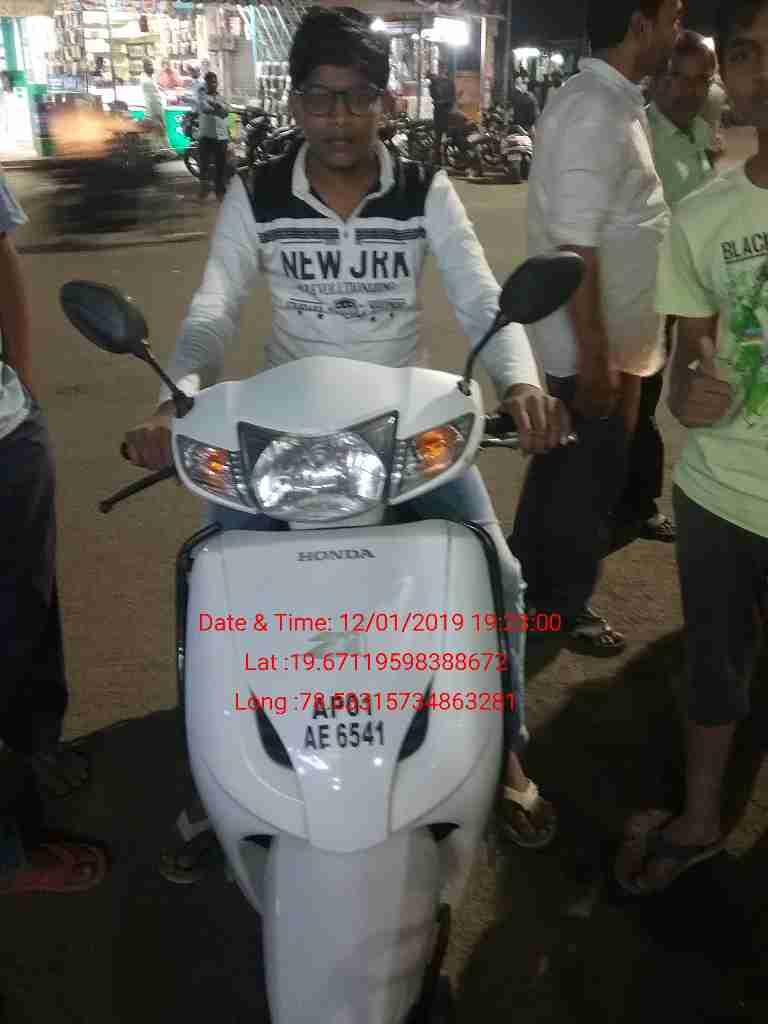plate: (283, 683, 399, 760)
